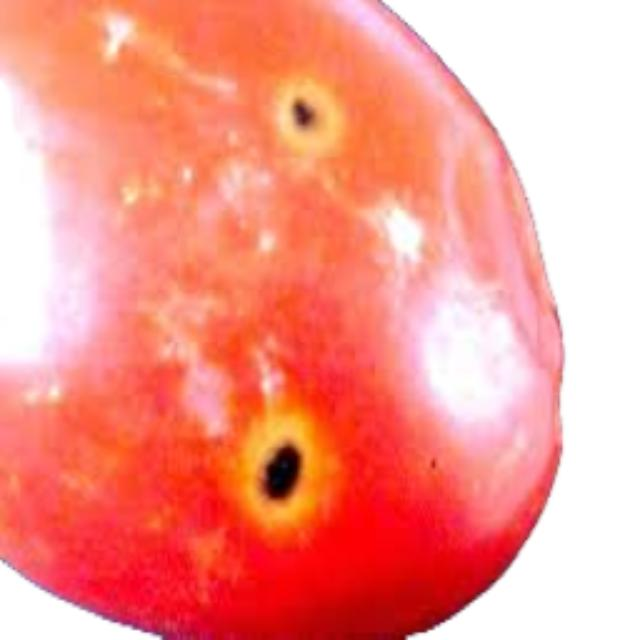defect: (0, 0, 568, 639)
